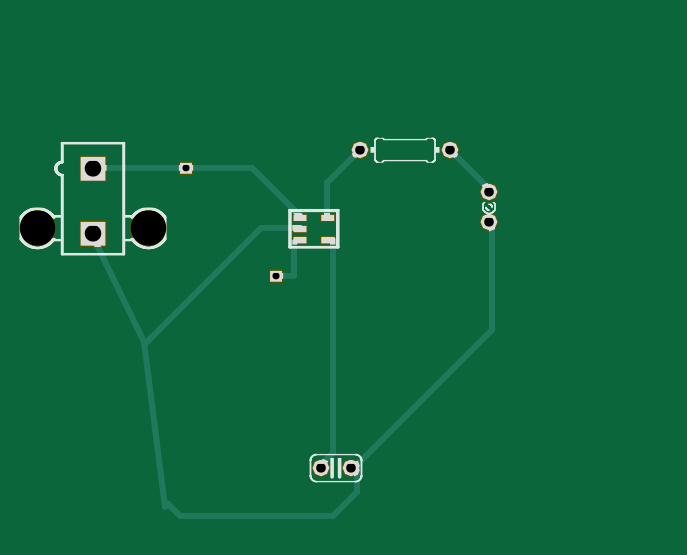LED: (481, 184, 497, 232)
capacitance: (309, 453, 363, 484)
power_supply: (19, 142, 168, 257)
regulation: (287, 209, 340, 249)
resistance: (352, 137, 459, 165)
